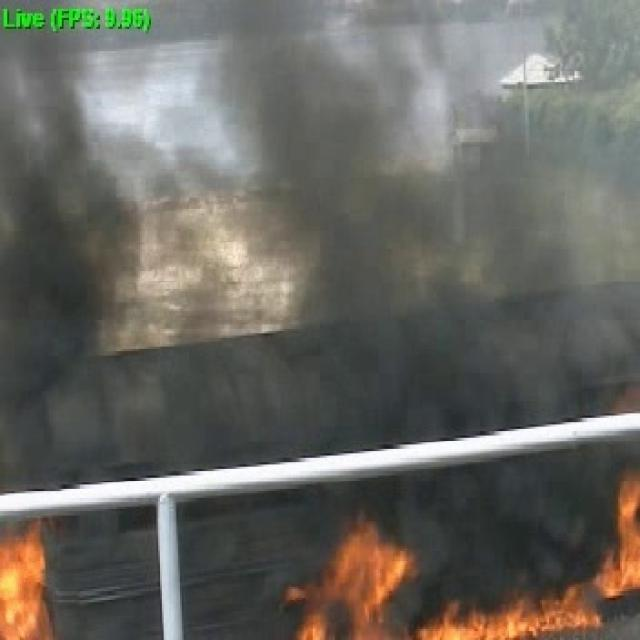Fire: (327, 540, 389, 624), (441, 606, 569, 636), (3, 548, 45, 632), (614, 489, 640, 590)
Smoke: (264, 59, 420, 524), (447, 146, 601, 567), (0, 39, 111, 526)
